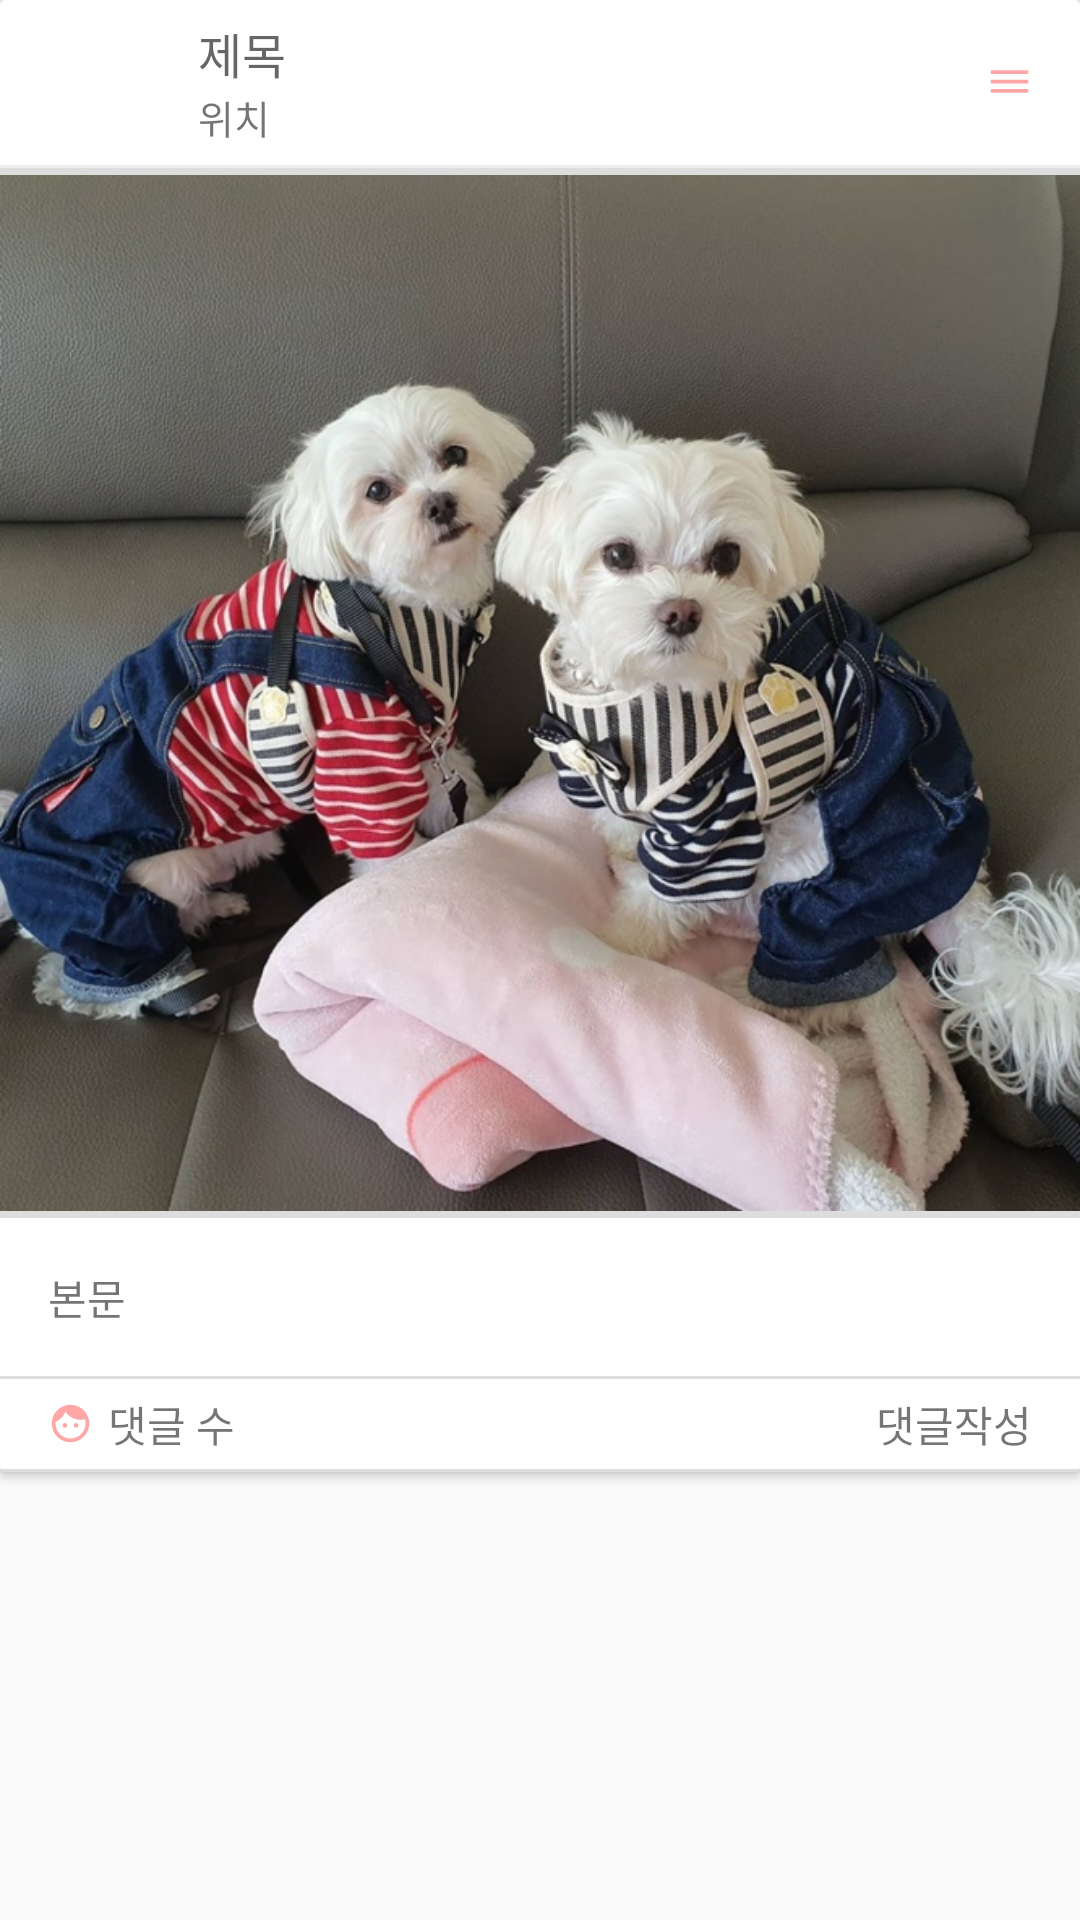

Locate icon controls on the screen. Image size 1080w x 1920h, boxes as [x1=x1, y1=y1, x2=x2, y2=y2].
profile: [x1=52, y1=1405, x2=89, y2=1442]
